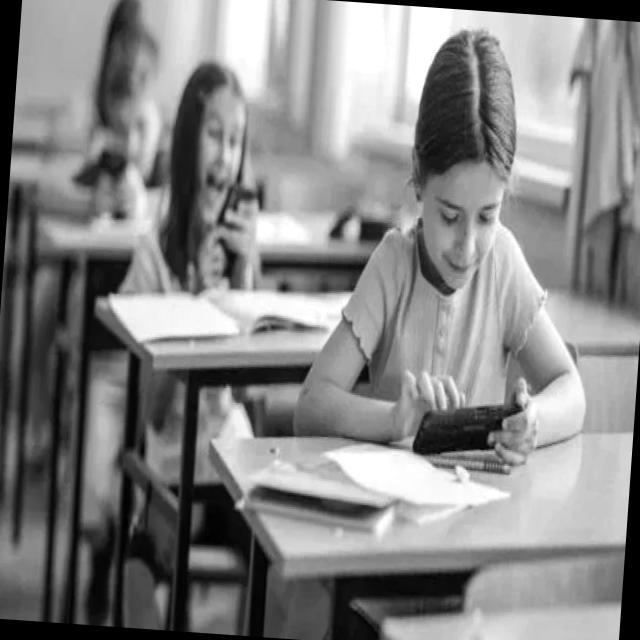phone: (411, 394, 523, 461), (212, 179, 260, 264), (98, 148, 126, 178)
